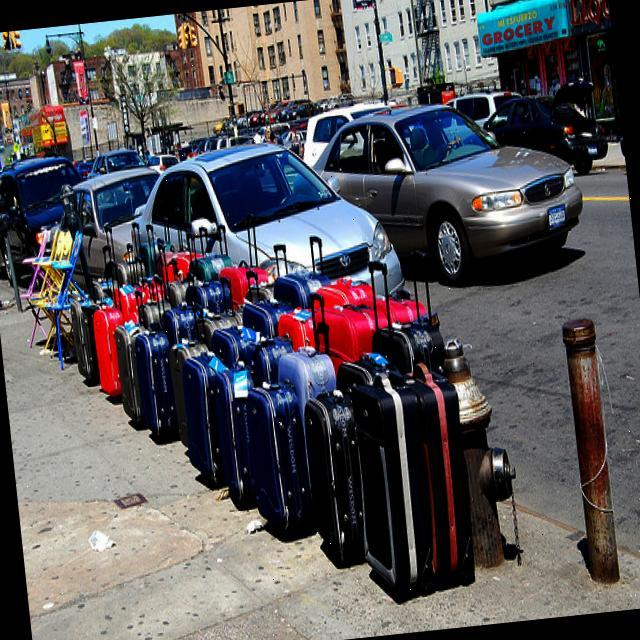fire_hydrant: (439, 328, 527, 572)
